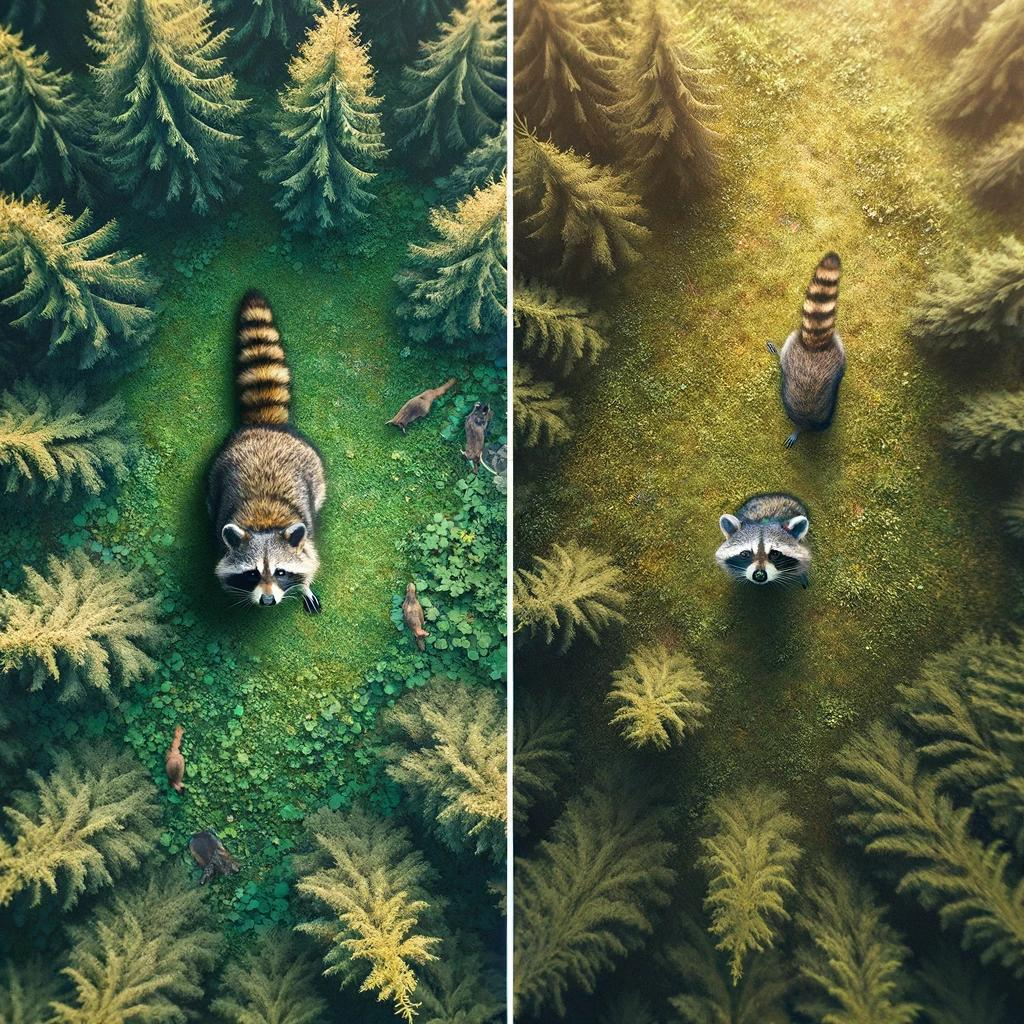raccoon: (188, 283, 342, 628), (762, 245, 855, 447), (705, 485, 830, 597)
